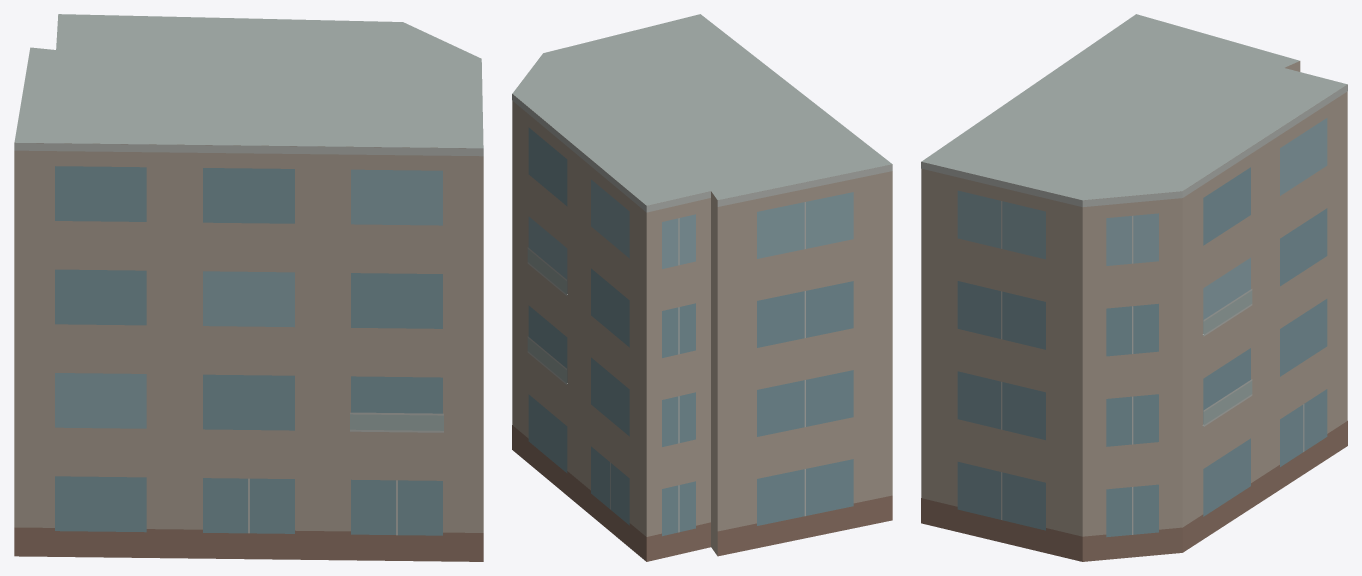
The model's file is survey-upis-32953685.glb.
3 renders of one model, left to right at view 1: azimuth 30°, elevation 25°; view 2: azimuth 150°, elevation 25°; view 3: azimuth 270°, elevation 25°, orthographic. The views are drawn at different scales.
Parts seen in each view (by area): view 1: survey-upis-32953685.tmp; view 2: survey-upis-32953685.tmp; view 3: survey-upis-32953685.tmp.
Boxes of the visible parts, x1,y1,x2,y2 form: survey-upis-32953685.tmp: (14, 14, 483, 561); survey-upis-32953685.tmp: (512, 14, 892, 561); survey-upis-32953685.tmp: (921, 14, 1347, 561).
Size of the model in its own units: 14.15 by 12.8 by 13.69.
